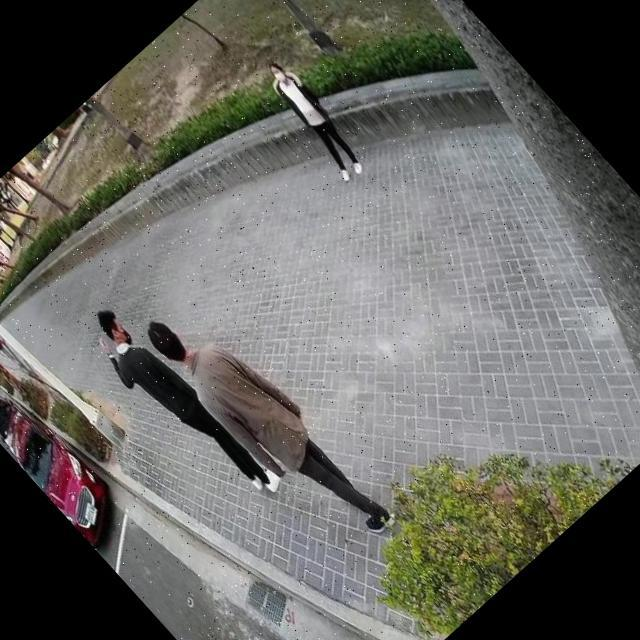person: (133, 278, 404, 567), (70, 286, 290, 522), (252, 51, 374, 180)
